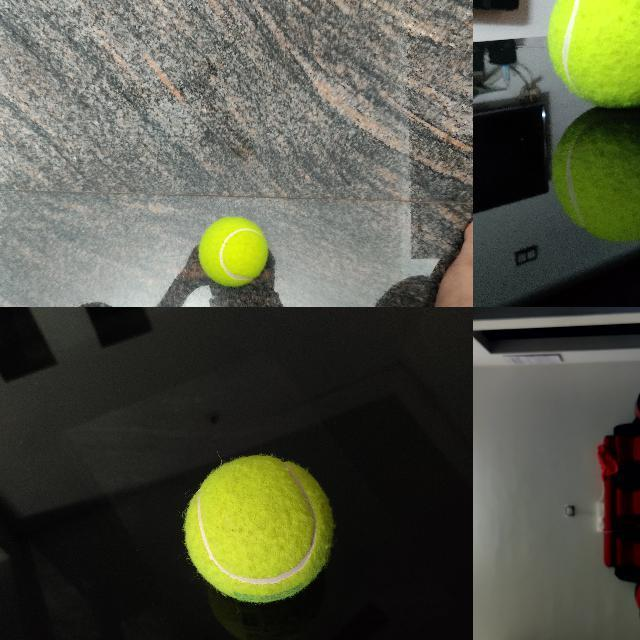tennis-ball: (185, 454, 334, 602), (547, 0, 639, 108), (198, 216, 268, 286)
